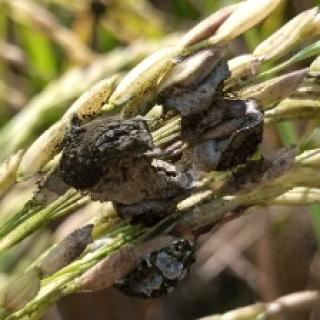Gosong-Palsu: (56, 116, 187, 216), (164, 61, 261, 170), (116, 240, 193, 297)
